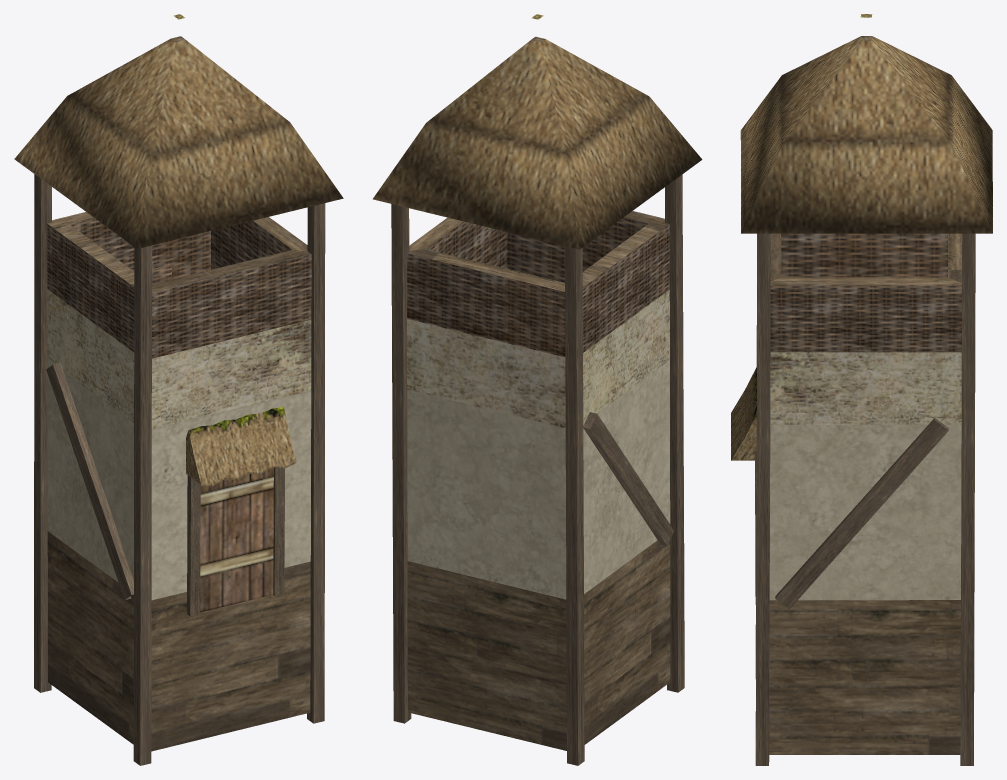
The model's file is wood_tower.dae.
3 views of the same model, side by side, from view 1: azimuth 30°, elevation 25°; view 2: azimuth 150°, elevation 25°; view 3: azimuth 270°, elevation 25° (orthographic). The views are drawn at different scales.
Parts seen in each view (by area): view 1: wood_tower; view 2: wood_tower; view 3: wood_tower.
Boxes of the visible parts, left/top/right/bottom form: wood_tower: left=14, top=14, right=343, bottom=765; wood_tower: left=373, top=14, right=702, bottom=765; wood_tower: left=731, top=14, right=992, bottom=765.
Size of the model in its own units: 7.04 by 7.53 by 22.35.
